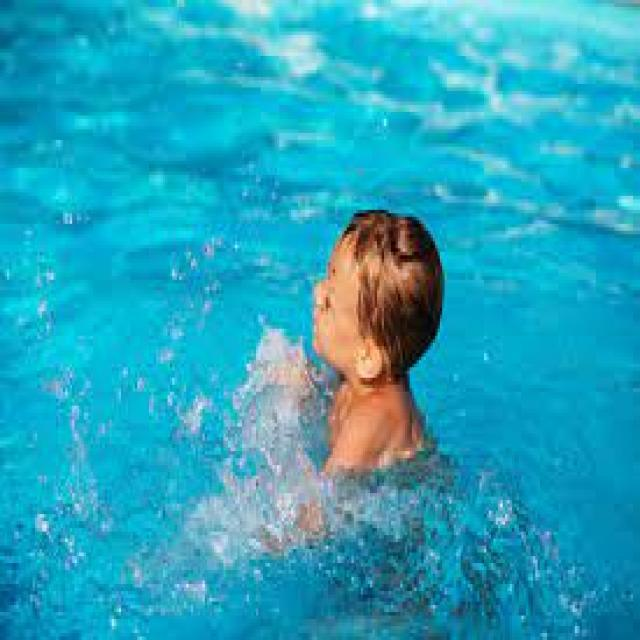Swimming: (304, 209, 444, 478)
